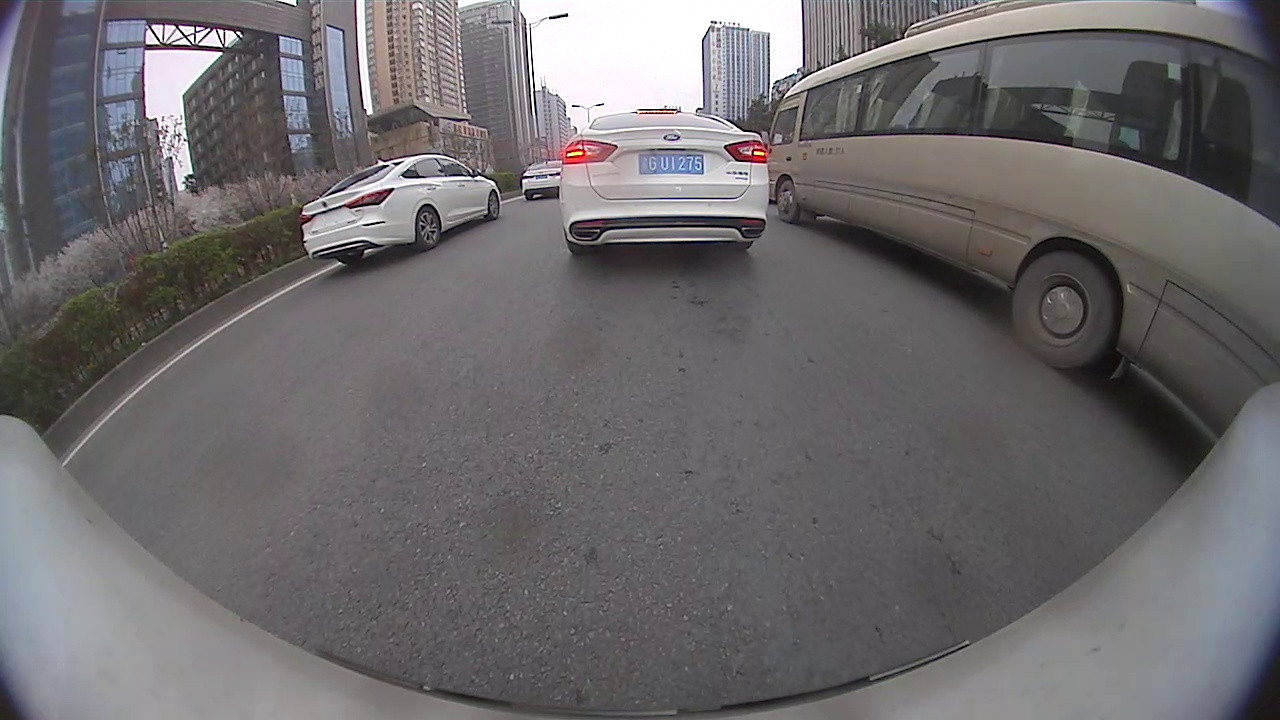bus: (769, 0, 1278, 441)
car: (557, 109, 770, 255), (296, 155, 501, 269), (520, 160, 562, 201)
front: (776, 178, 799, 224), (487, 187, 501, 221)
rear: (1010, 252, 1114, 369), (413, 205, 442, 249)
